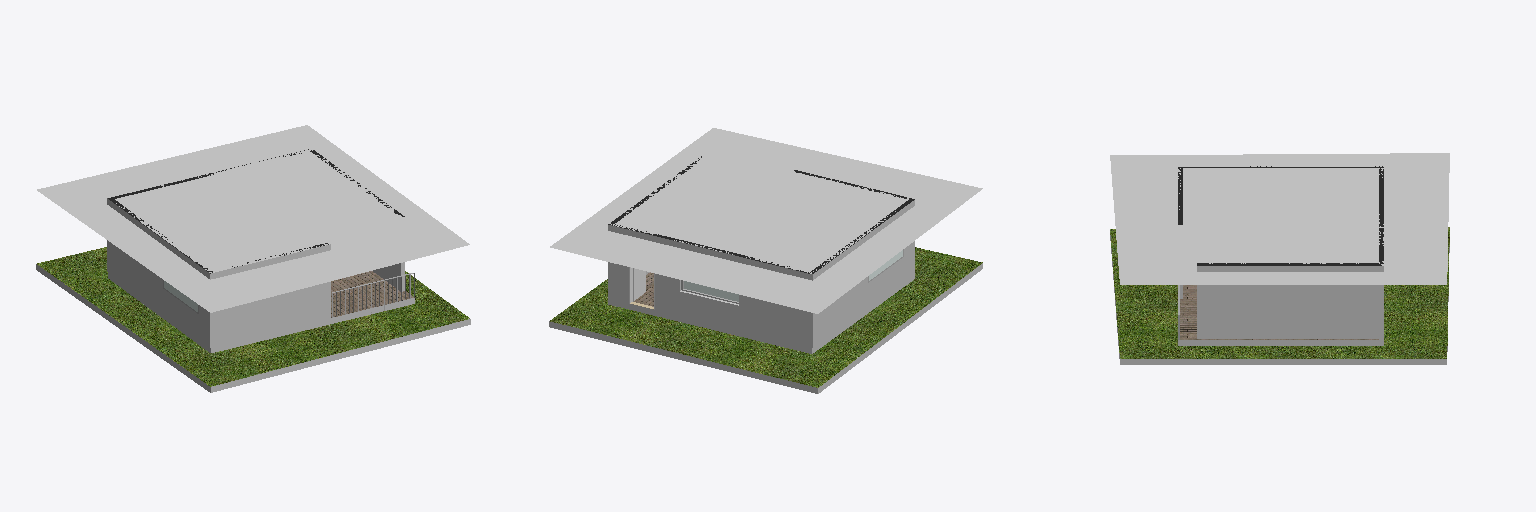
The picture shows the model from 3 angles: view 1: azimuth 30°, elevation 25°; view 2: azimuth 150°, elevation 25°; view 3: azimuth 270°, elevation 25°; orthographic projection.
Visible parts, largest first — view 1: 2, 12, 13, 1, 5, 14; view 2: 2, 12, 3, 13, 5, 7; view 3: 2, 12, 13, 5, 1.
Part boxes in pixels (x1,y1,x2,y2): 2: (37,125,469,352); 12: (37,247,469,386); 13: (36,264,470,392); 1: (331,271,413,317); 5: (108,149,404,273); 14: (332,273,414,317); 2: (550,128,982,353); 12: (550,247,982,387); 3: (608,225,807,346); 13: (549,263,982,393); 5: (608,156,914,273); 7: (684,250,902,301); 2: (1110,153,1449,345); 12: (1110,227,1449,358); 13: (1110,235,1449,364); 5: (1178,166,1383,265); 1: (1180,285,1378,339).
Size of the model in its own units: 9.18 by 2.8 by 10.
Materials: 18 (6 with a texture image).